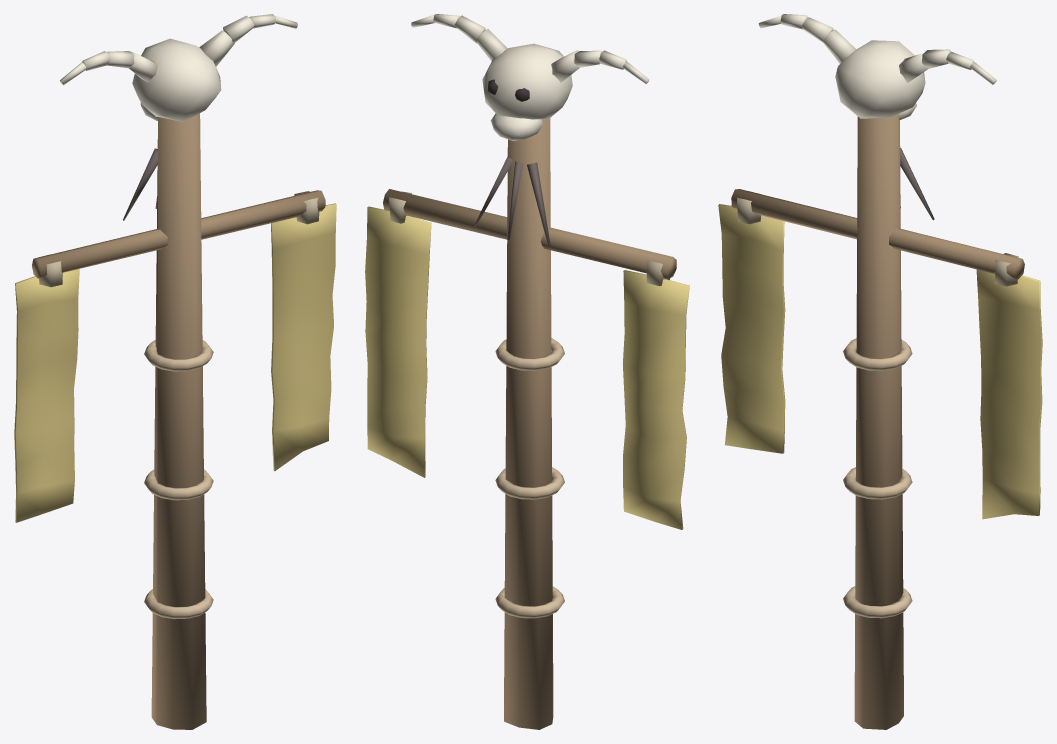
The model's file is camp_totem.glb.
The picture shows the model from 3 angles, left to right: view 1: azimuth 30°, elevation 25°; view 2: azimuth 150°, elevation 25°; view 3: azimuth 330°, elevation 25°; orthographic projection.
Visible parts, largest first — view 1: pole, strip.001, strip, bar, skull, carve.002, carve.001, carve, horn.004; view 2: pole, strip.001, strip, bar, skull, carve.002, carve.001, carve, jaw, feather, horn.004; view 3: pole, strip.001, strip, bar, skull, carve.002, carve.001, carve, horn, horn.004.
Part boxes in pixels (<box>): pole: <box>151,113,206,729</box>; strip.001: <box>271,203,336,471</box>; strip: <box>14,268,79,522</box>; bar: <box>32,190,325,278</box>; skull: <box>132,38,221,121</box>; carve.002: <box>144,340,213,371</box>; carve.001: <box>144,469,213,500</box>; carve: <box>144,589,213,619</box>; horn.004: <box>199,30,234,66</box>; pole: <box>504,118,553,729</box>; strip.001: <box>365,206,431,477</box>; strip: <box>622,270,689,529</box>; bar: <box>383,189,676,278</box>; skull: <box>482,43,572,119</box>; carve.002: <box>495,338,564,370</box>; carve.001: <box>495,467,564,499</box>; carve: <box>495,586,564,618</box>; jaw: <box>490,113,542,141</box>; feather: <box>527,162,550,246</box>; horn.004: <box>477,29,507,61</box>; pole: <box>854,114,903,729</box>; strip.001: <box>976,269,1042,519</box>; strip: <box>718,204,785,453</box>; bar: <box>731,189,1024,279</box>; skull: <box>835,40,925,118</box>; carve.002: <box>843,338,912,370</box>; carve.001: <box>843,467,912,499</box>; carve: <box>843,586,912,618</box>; horn: <box>823,29,856,63</box>; horn.004: <box>899,53,928,82</box>.
Size of the model in its own units: 1.7 by 3.46 by 0.4513.
